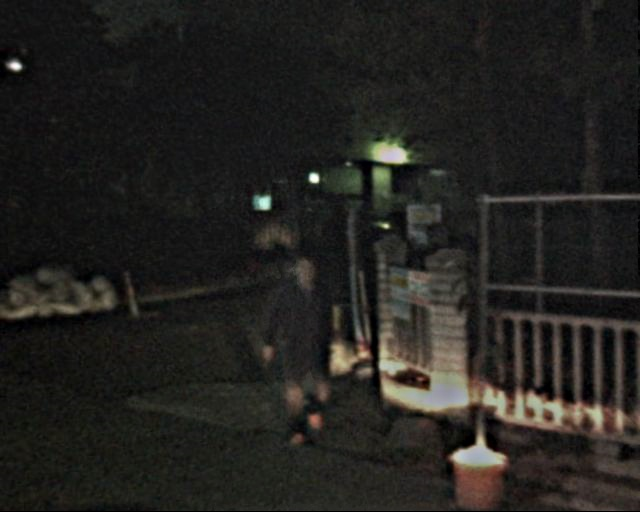person: (267, 249, 345, 452)
